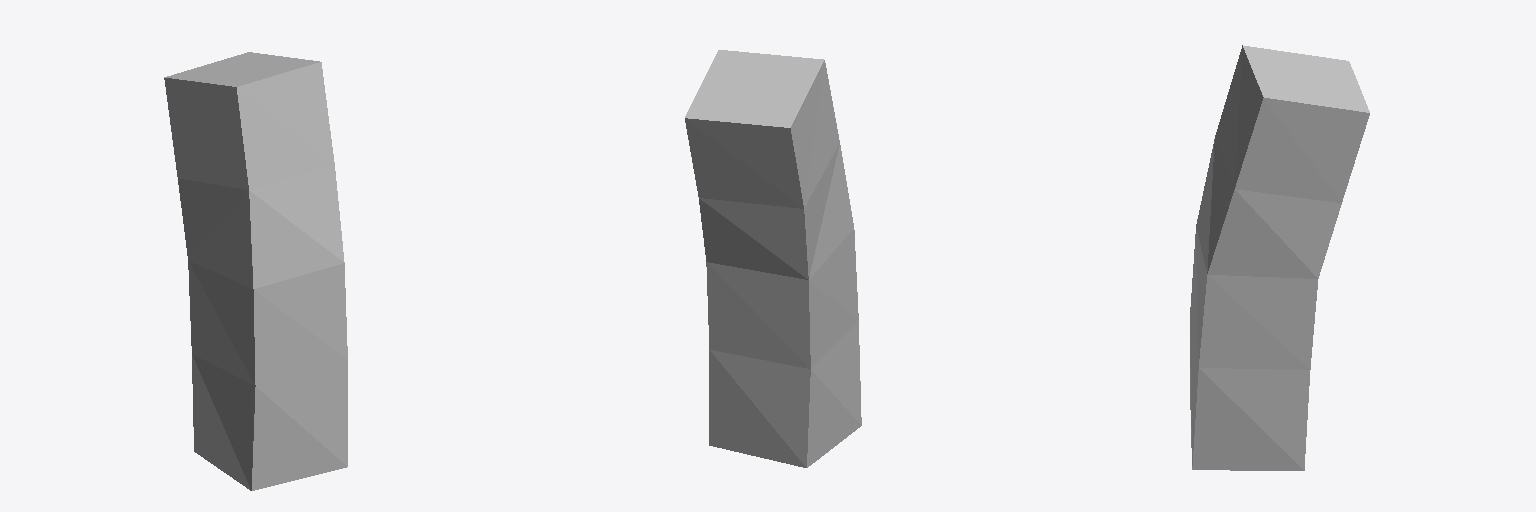
The model's file is wiggle_000036.obj.
3 views of the same model, side by side, from view 1: azimuth 30°, elevation 25°; view 2: azimuth 150°, elevation 25°; view 3: azimuth 270°, elevation 25° (orthographic).
Parts seen in each view (by area): view 1: Cube; view 2: Cube; view 3: Cube.
Boxes of the visible parts, x1=… form: Cube: x1=164, y1=52, x2=347, y2=490; Cube: x1=685, y1=50, x2=861, y2=467; Cube: x1=1190, y1=45, x2=1369, y2=470.
Size of the model in its own units: 2.35 by 7.54 by 3.22.